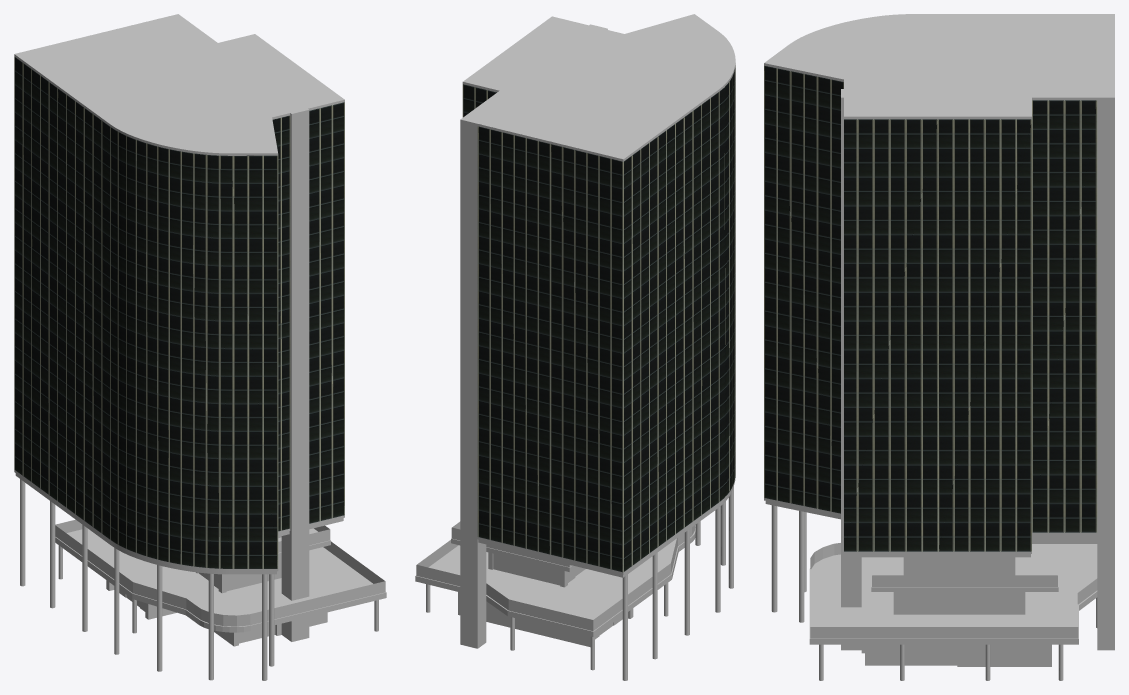
The picture shows the model from 3 angles, left to right: view 1: azimuth 30°, elevation 25°; view 2: azimuth 150°, elevation 25°; view 3: azimuth 270°, elevation 25°; orthographic projection. The views are drawn at different scales.
Parts seen in each view (by area): view 1: BC-029; view 2: BC-029; view 3: BC-029.
Boxes of the visible parts, box(x1,y1,x2,y2) form: BC-029: box(14, 14, 386, 680); BC-029: box(415, 14, 735, 680); BC-029: box(764, 14, 1114, 680).
Size of what is drawn, in the model's own units: 25.82 by 57.54 by 33.12.
